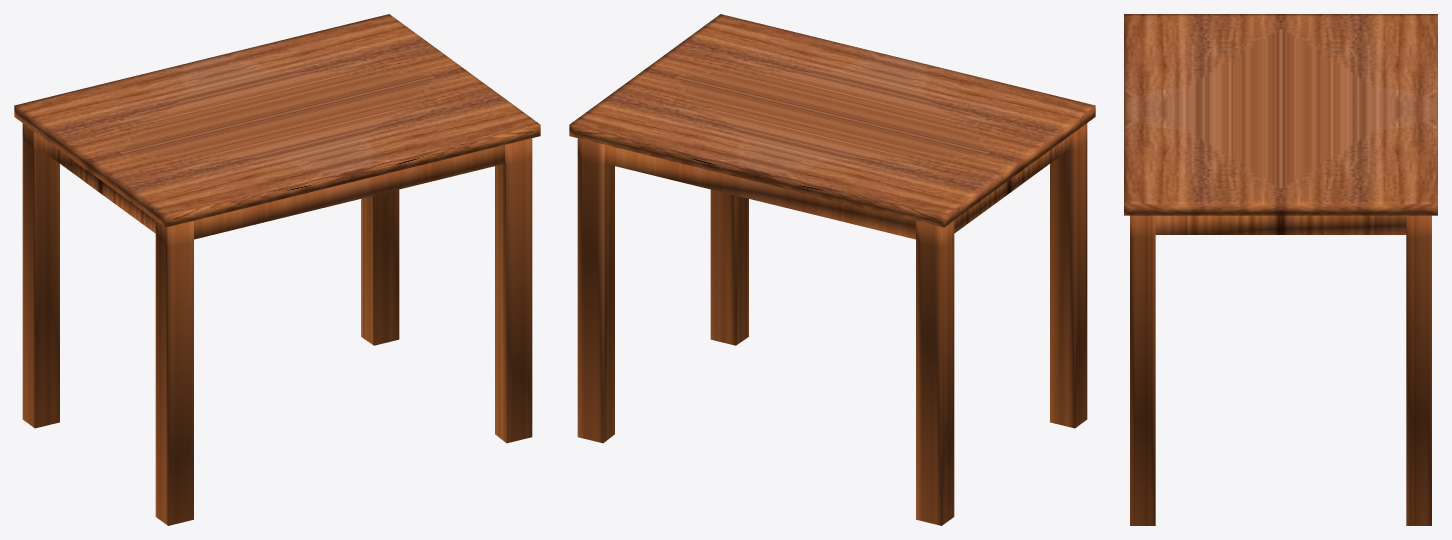
Rendered from single_table_model.glb.
The picture shows the model from 3 angles, left to right: view 1: azimuth 30°, elevation 25°; view 2: azimuth 150°, elevation 25°; view 3: azimuth 270°, elevation 25°; orthographic projection. The views are drawn at different scales.
Parts seen in each view (by area): view 1: Cube; view 2: Cube; view 3: Cube.
Part boxes in pixels (x1,y1,x2,y2): Cube: (14,14,540,525); Cube: (569,14,1095,525); Cube: (1124,14,1437,525).
Size of the model in its own units: 2.64 by 2.11 by 1.85.
1 material, 1 textured.
